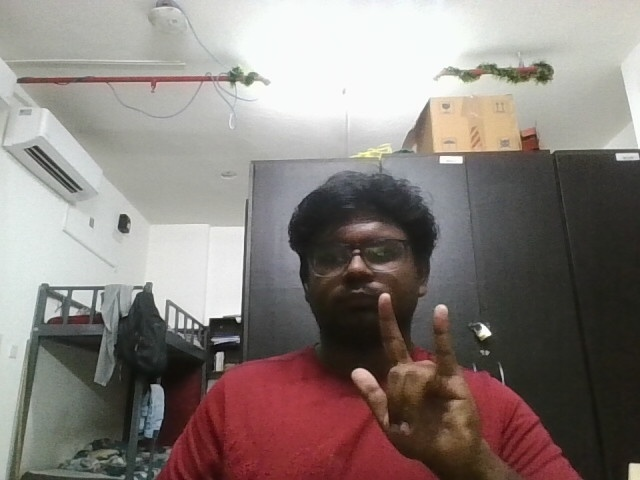I Love You: (342, 280, 506, 466)
